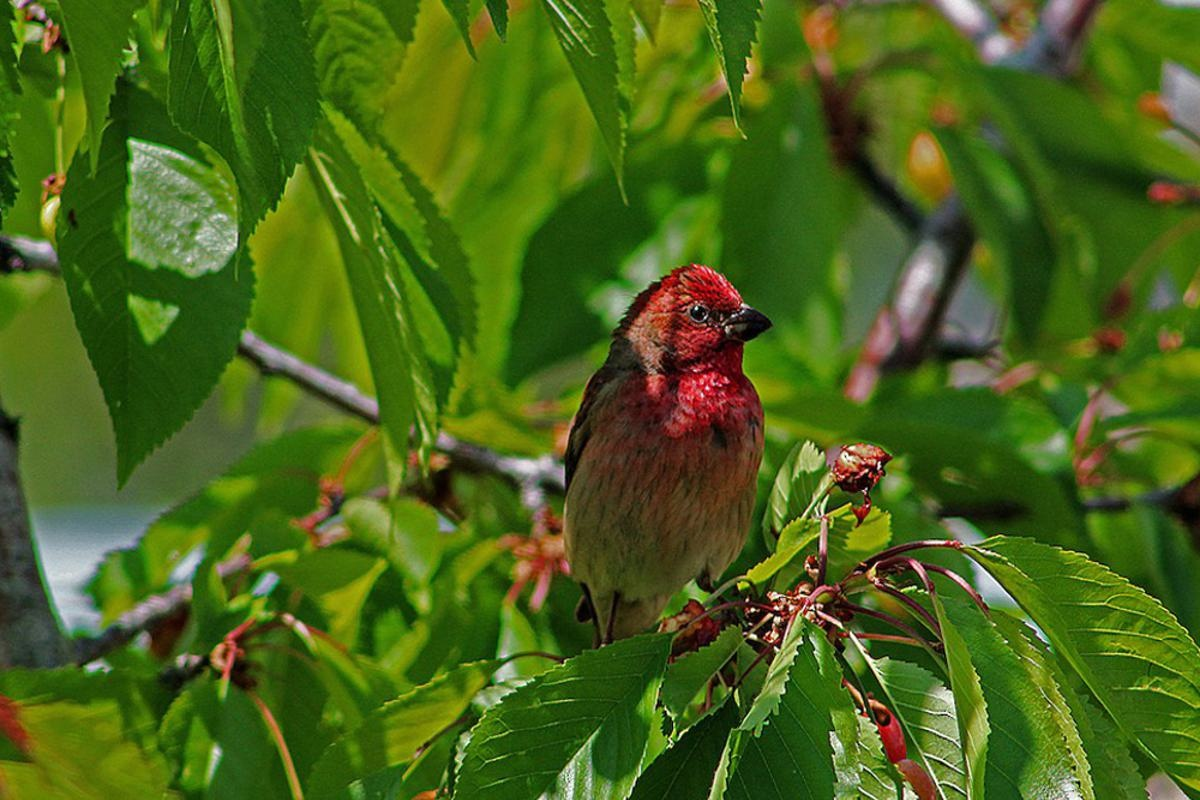rosefinch: (564, 237, 775, 720)
